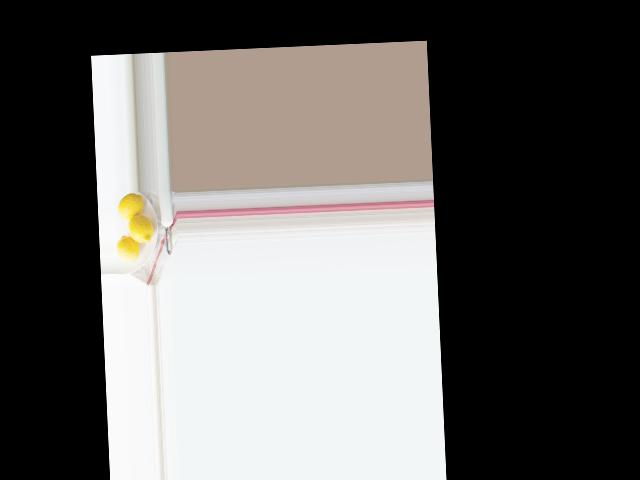lemon: (117, 190, 142, 221)
